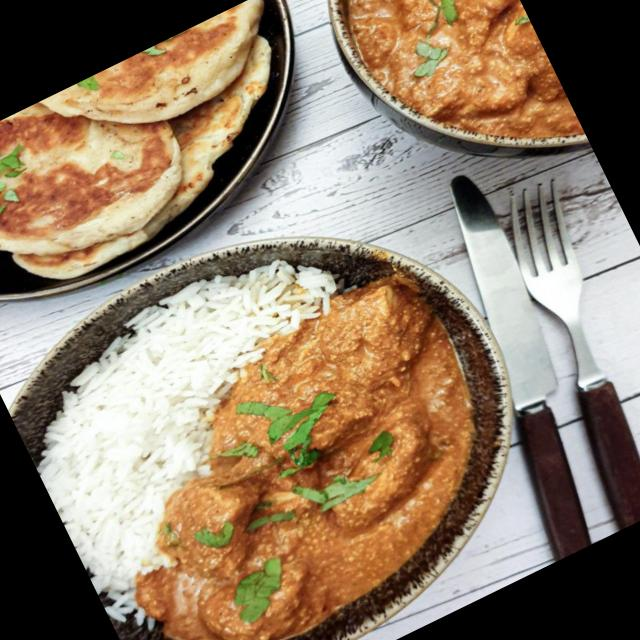chicken: (238, 304, 516, 591), (135, 430, 422, 640), (330, 0, 571, 177)
rice: (60, 304, 272, 486), (38, 423, 180, 594)
